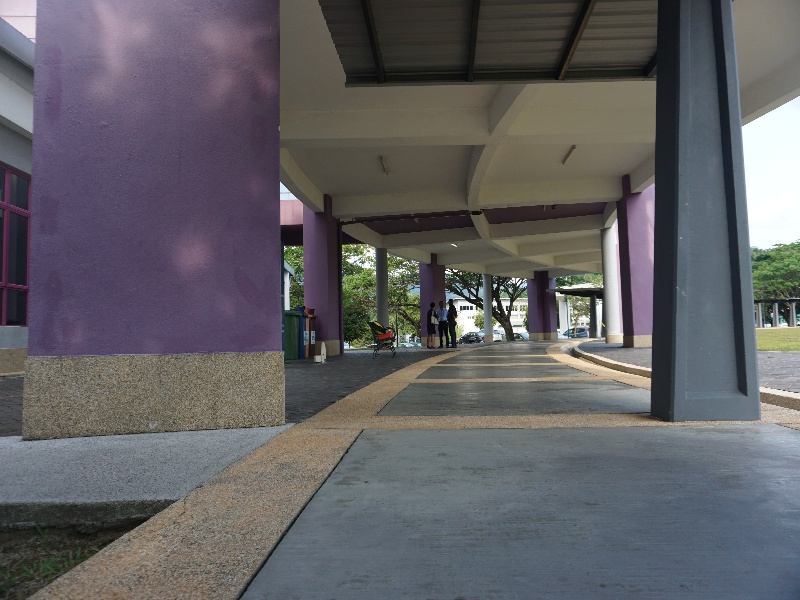Block D Pillar 1: (3, 2, 800, 500)
pillar: (14, 3, 312, 444), (647, 12, 761, 429)
